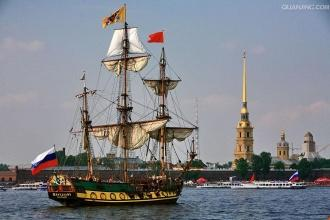fanchuan: (42, 5, 208, 205)
otherboat: (227, 174, 309, 190)
